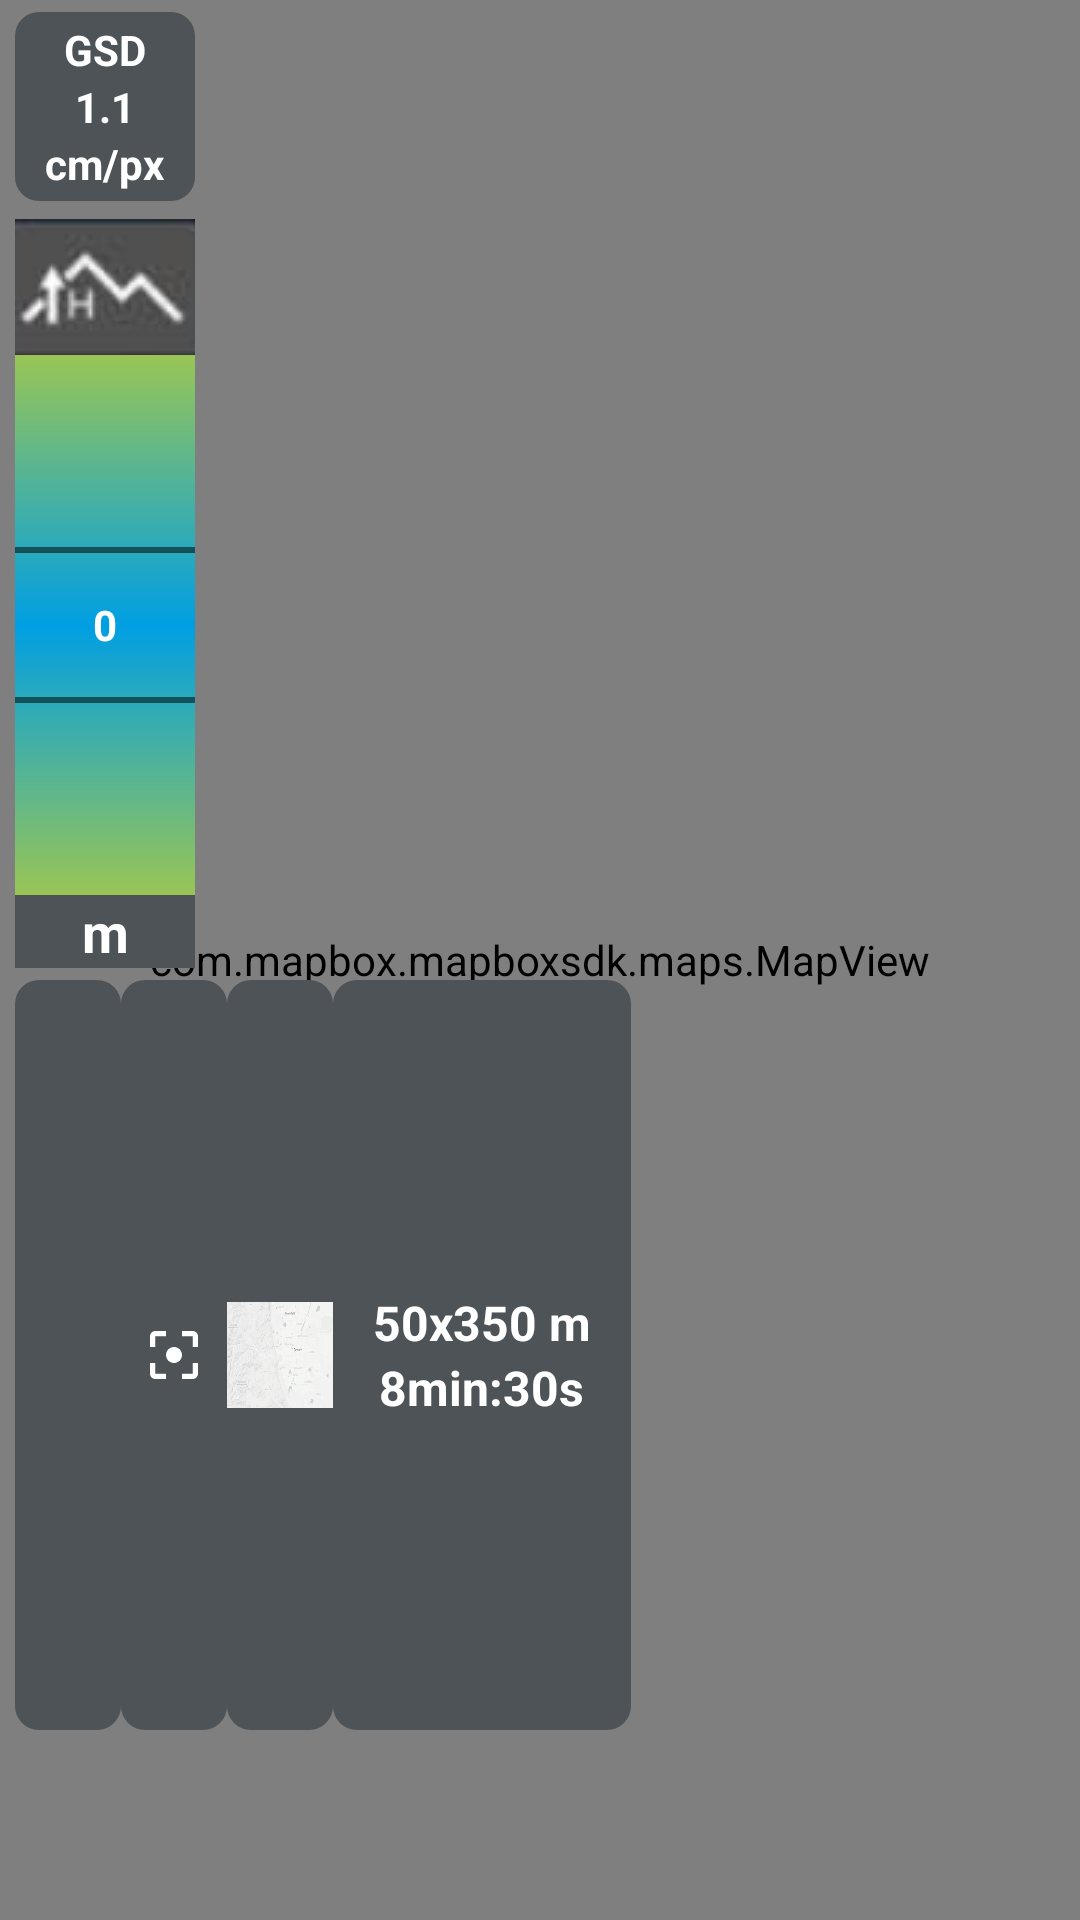

Screen size 1080×1920. Icon name, then its box in pixels as bbox=[x1, y1, x2, y2]:
filter center focus: bbox=[150, 1331, 198, 1379]
